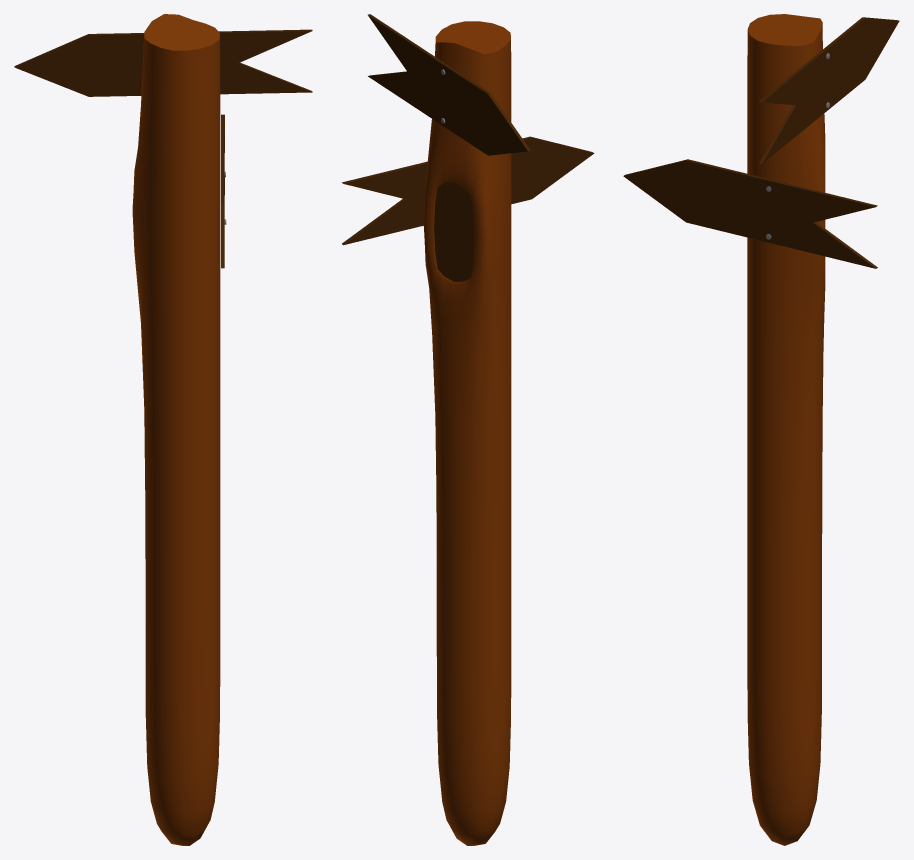
Rendered from sign post.fbx.
3 views of the same model, side by side, from view 1: azimuth 30°, elevation 25°; view 2: azimuth 150°, elevation 25°; view 3: azimuth 270°, elevation 25° (orthographic).
Parts seen in each view (by area): view 1: Cube, Plane; view 2: Cube, Plane; view 3: Cube, Plane.
Part boxes in pixels (left/top/right/bottom): Cube: left=132, top=14, right=220, bottom=845; Plane: left=14, top=29, right=312, bottom=268; Cube: left=423, top=21, right=511, bottom=845; Plane: left=342, top=14, right=594, bottom=245; Cube: left=747, top=14, right=825, bottom=845; Plane: left=623, top=17, right=899, bottom=268.
Size of the model in its own units: 282 by 956 by 291.
